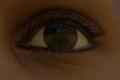eye: (44, 25, 77, 50)
